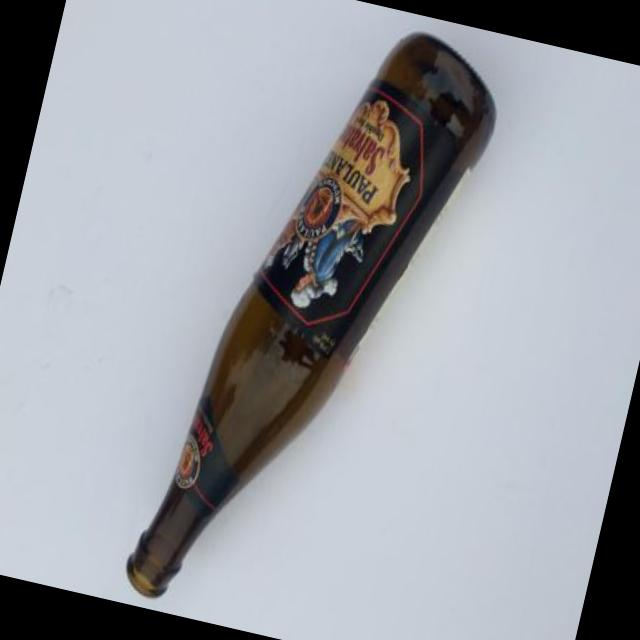chai_thuy_tinh: (128, 32, 496, 598)
